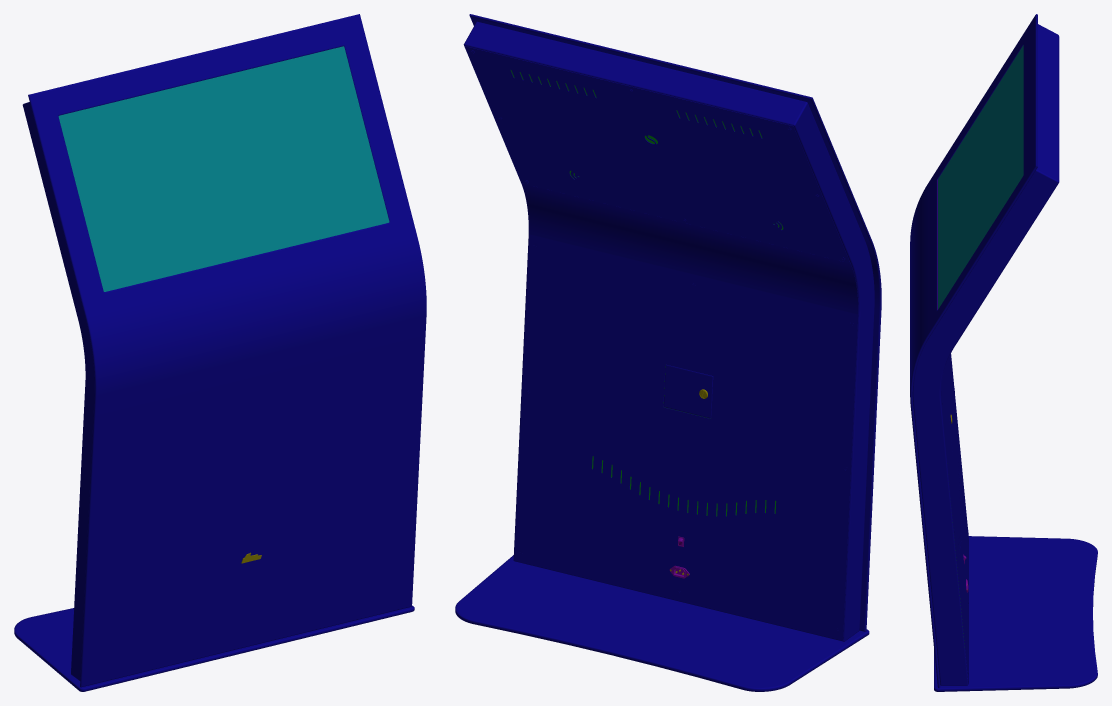
3 views of the same model, side by side, from view 1: azimuth 30°, elevation 25°; view 2: azimuth 150°, elevation 25°; view 3: azimuth 270°, elevation 25° (orthographic). The views are drawn at different scales.
Parts seen in each view (by area): view 1: SX_32_LOW; view 2: SX_32_LOW; view 3: SX_32_LOW.
Boxes of the visible parts, <box> form: SX_32_LOW: <box>14,14,426,691</box>; SX_32_LOW: <box>455,14,881,691</box>; SX_32_LOW: <box>910,14,1097,691</box>.
Size of the model in its own units: 836 by 1330 by 431.
